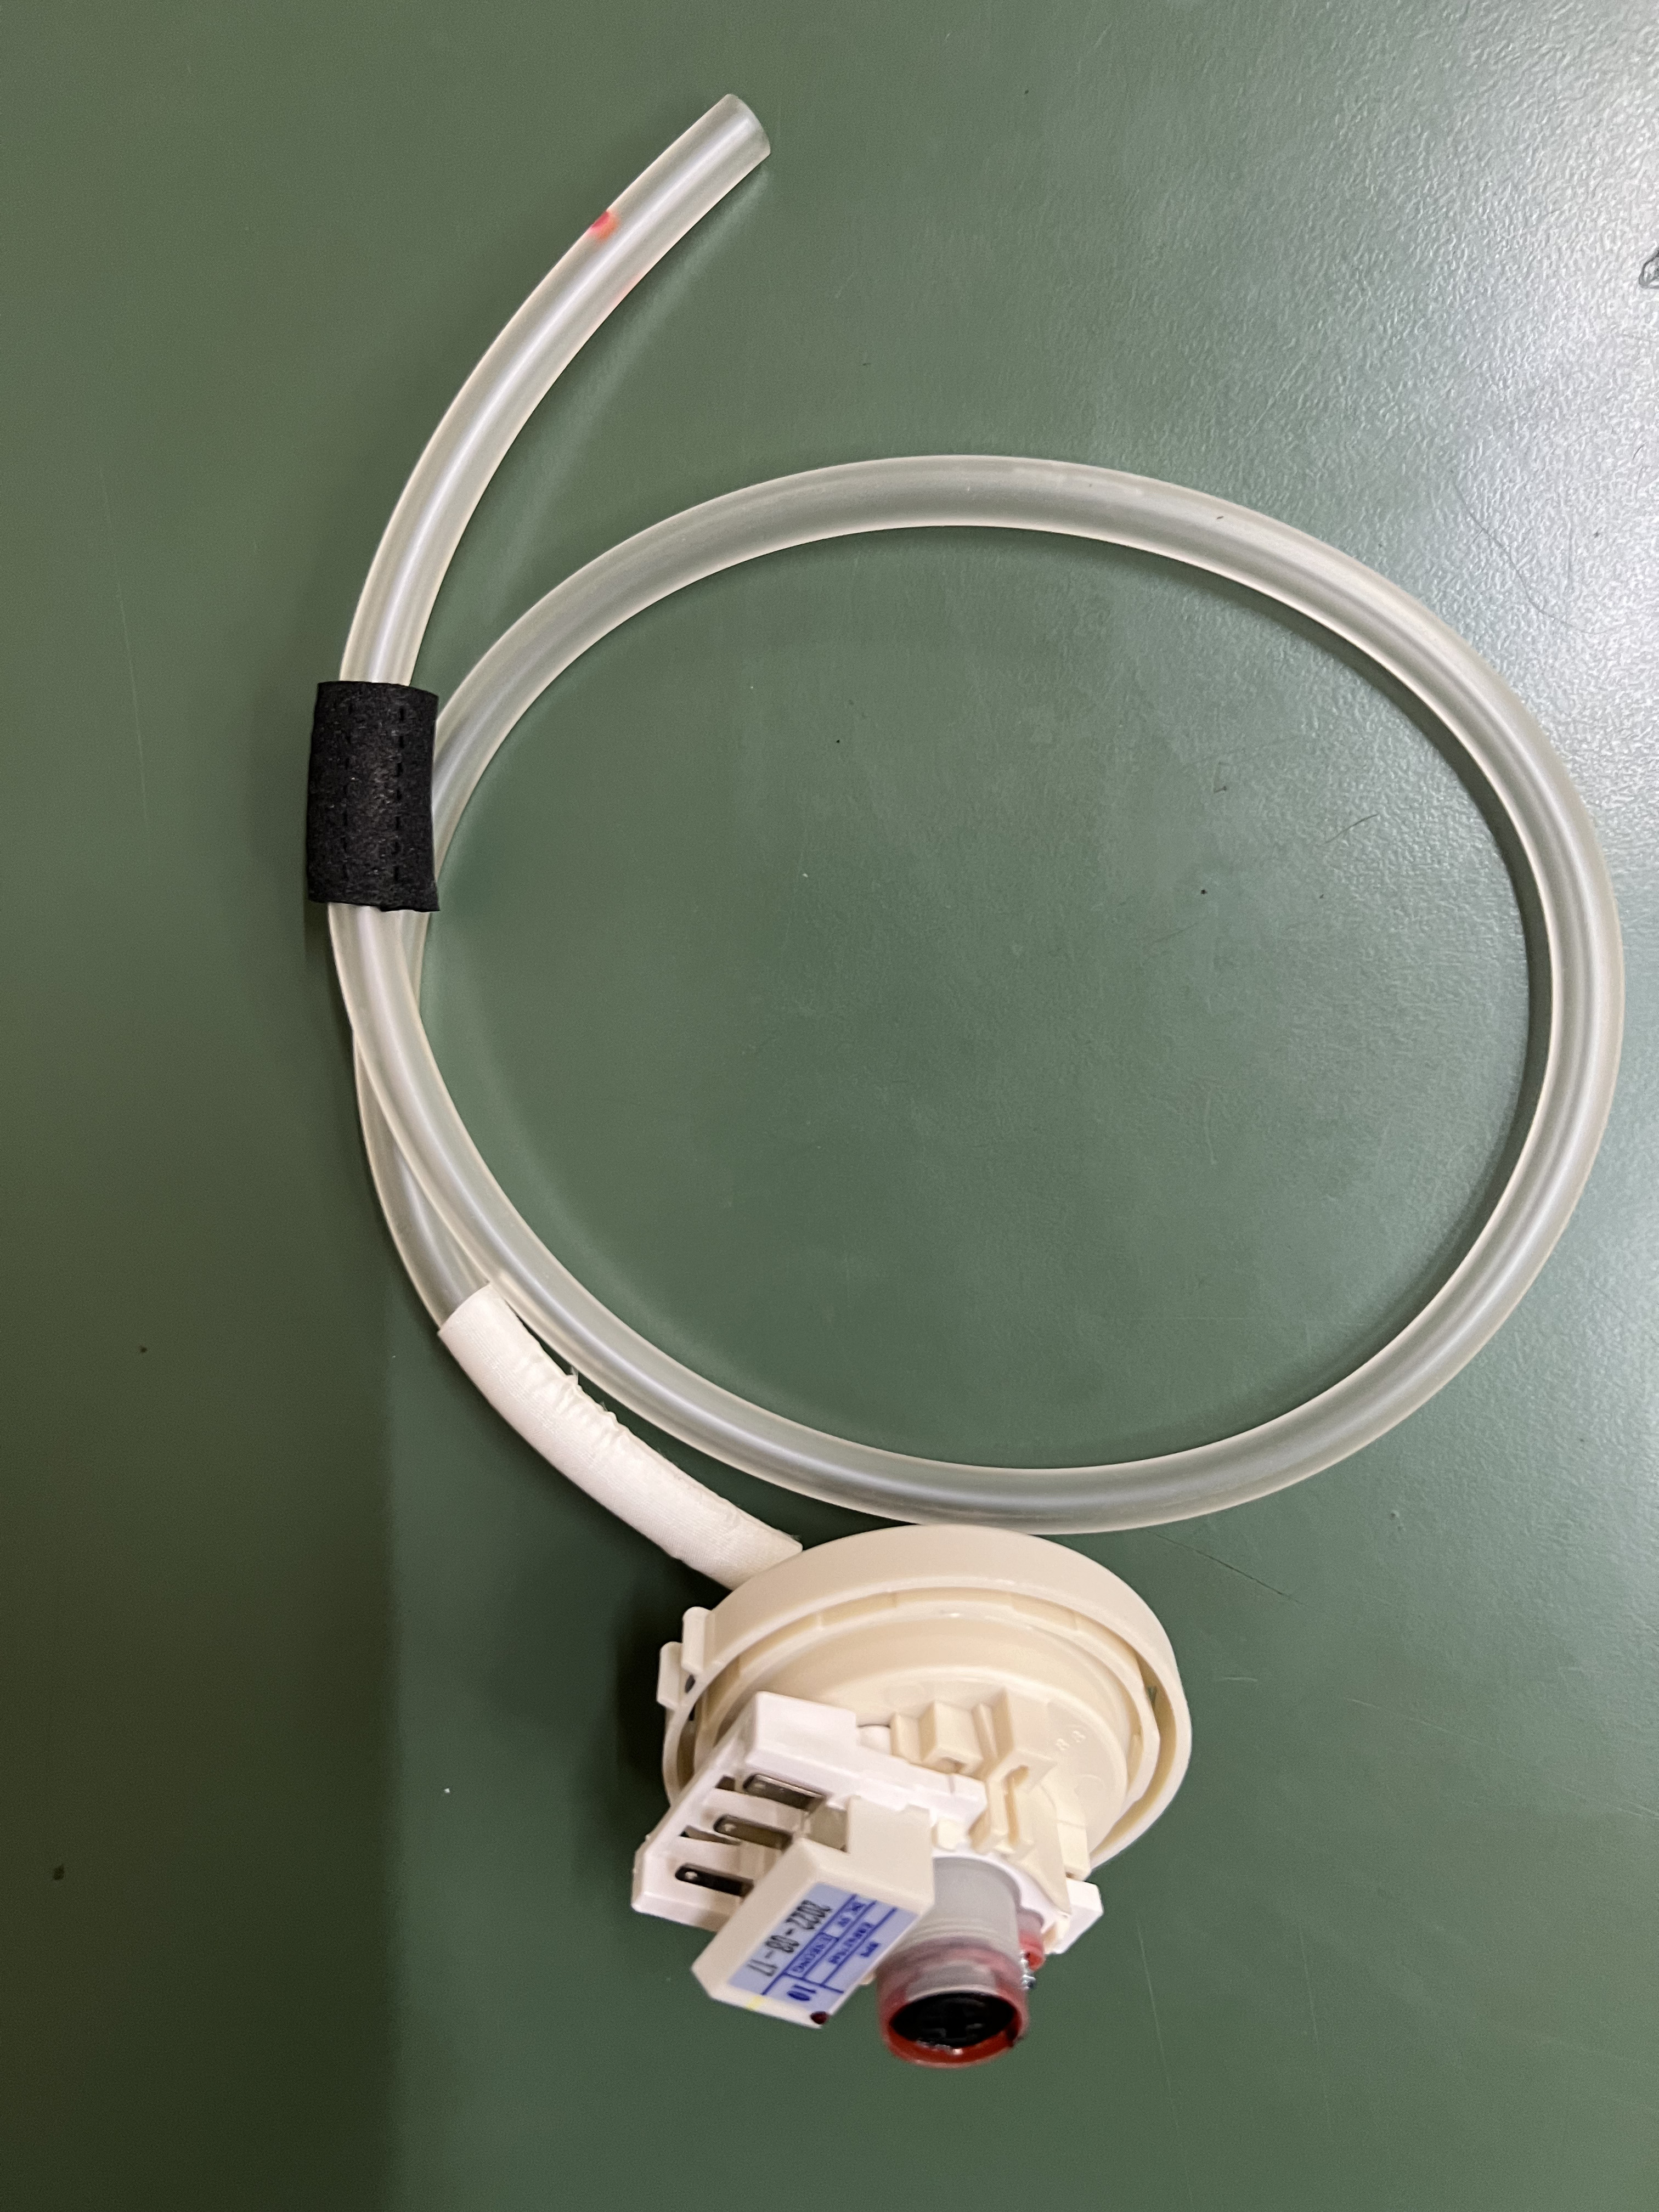pressure_sensor: (595, 1481, 1221, 2082)
